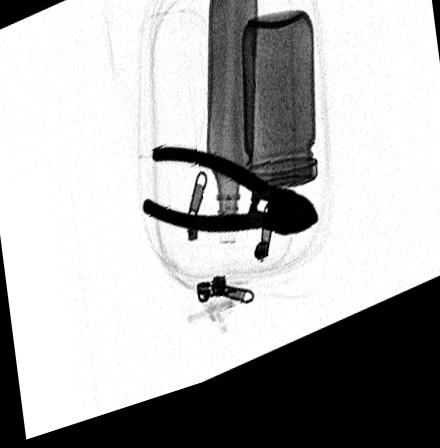Pliers: (142, 157, 319, 255)
